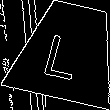L_N: (44, 23, 91, 80)
